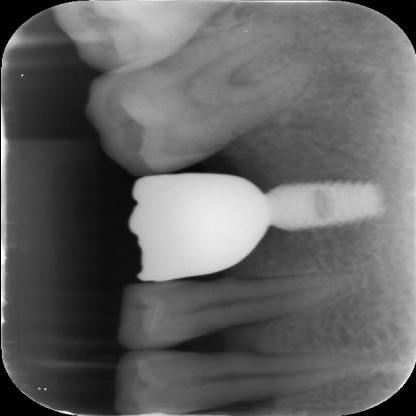Bicon: (272, 172, 386, 242)
